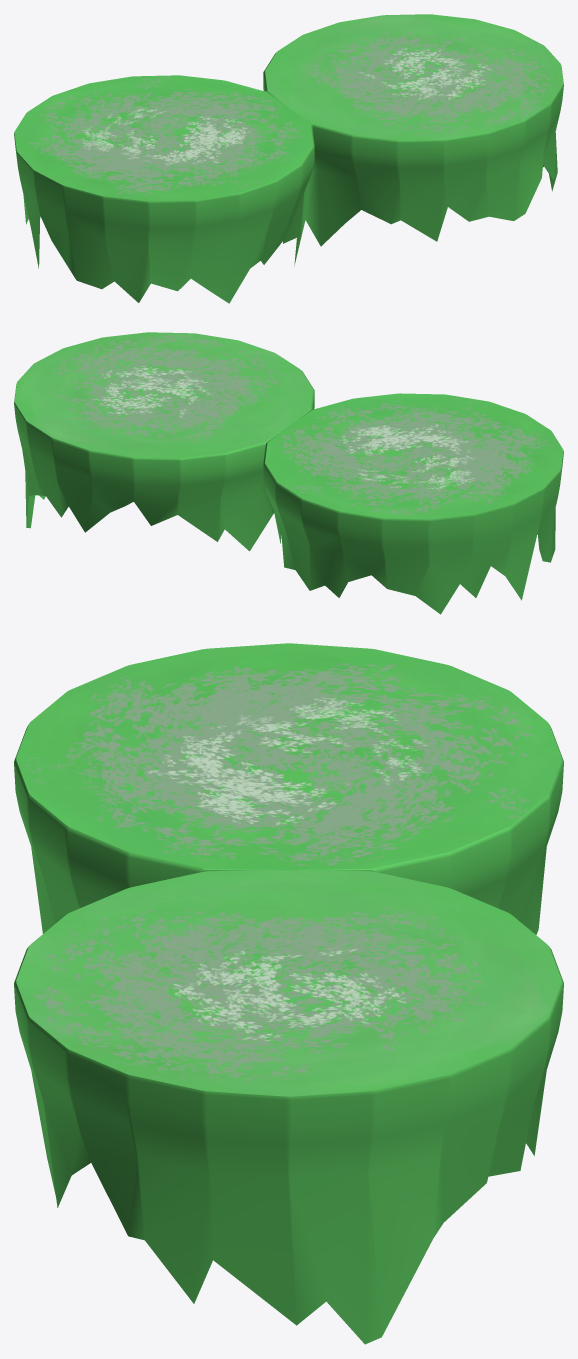
File: stageclearprototype1.fbx
3 views of the same model, one above another, from view 1: azimuth 30°, elevation 25°; view 2: azimuth 150°, elevation 25°; view 3: azimuth 270°, elevation 25° (orthographic). The views are drawn at different scales.
Parts seen in each view (by area): view 1: polySurface2, polySurface1; view 2: polySurface2, polySurface1; view 3: polySurface2, polySurface1.
Part boxes in pixels (bbox=[...]): polySurface2: bbox=[14, 14, 563, 201]; polySurface1: bbox=[14, 52, 563, 303]; polySurface2: bbox=[14, 332, 563, 519]; polySurface1: bbox=[14, 370, 563, 614]; polySurface2: bbox=[16, 643, 561, 1096]; polySurface1: bbox=[14, 725, 563, 1344].
Size of the model in its own units: 1938 by 526 by 993.
2 materials, 2 textured.
